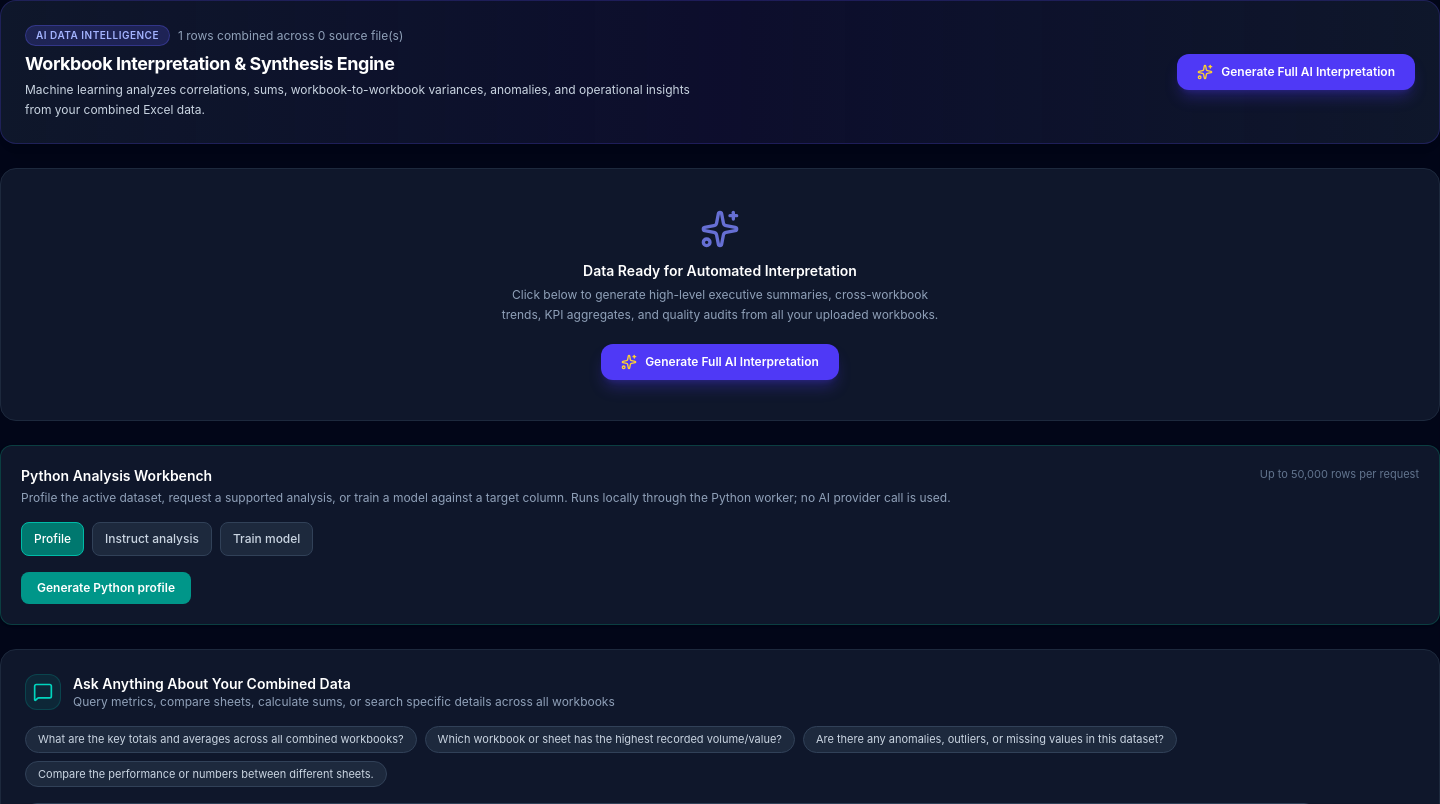
Test: DataInterpreterView Python workbench › shows a helpful message when the Python worker is not available
The image size is (1440, 804).
Click the button "Generate Python profile": (106, 588) [21,572,191,604]
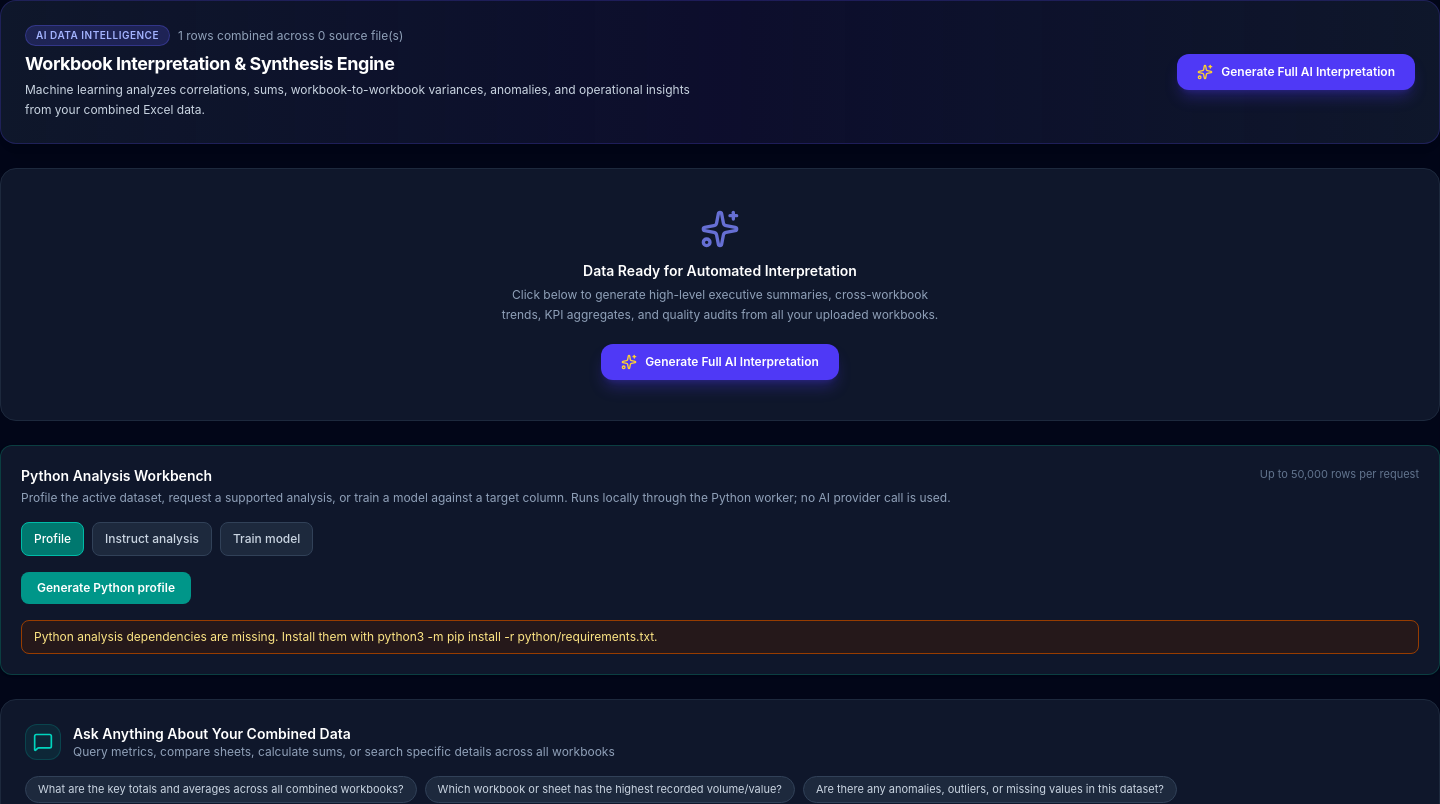
Now the message shows "Python analysis dependencies are missing", box [34,629,658,644]
